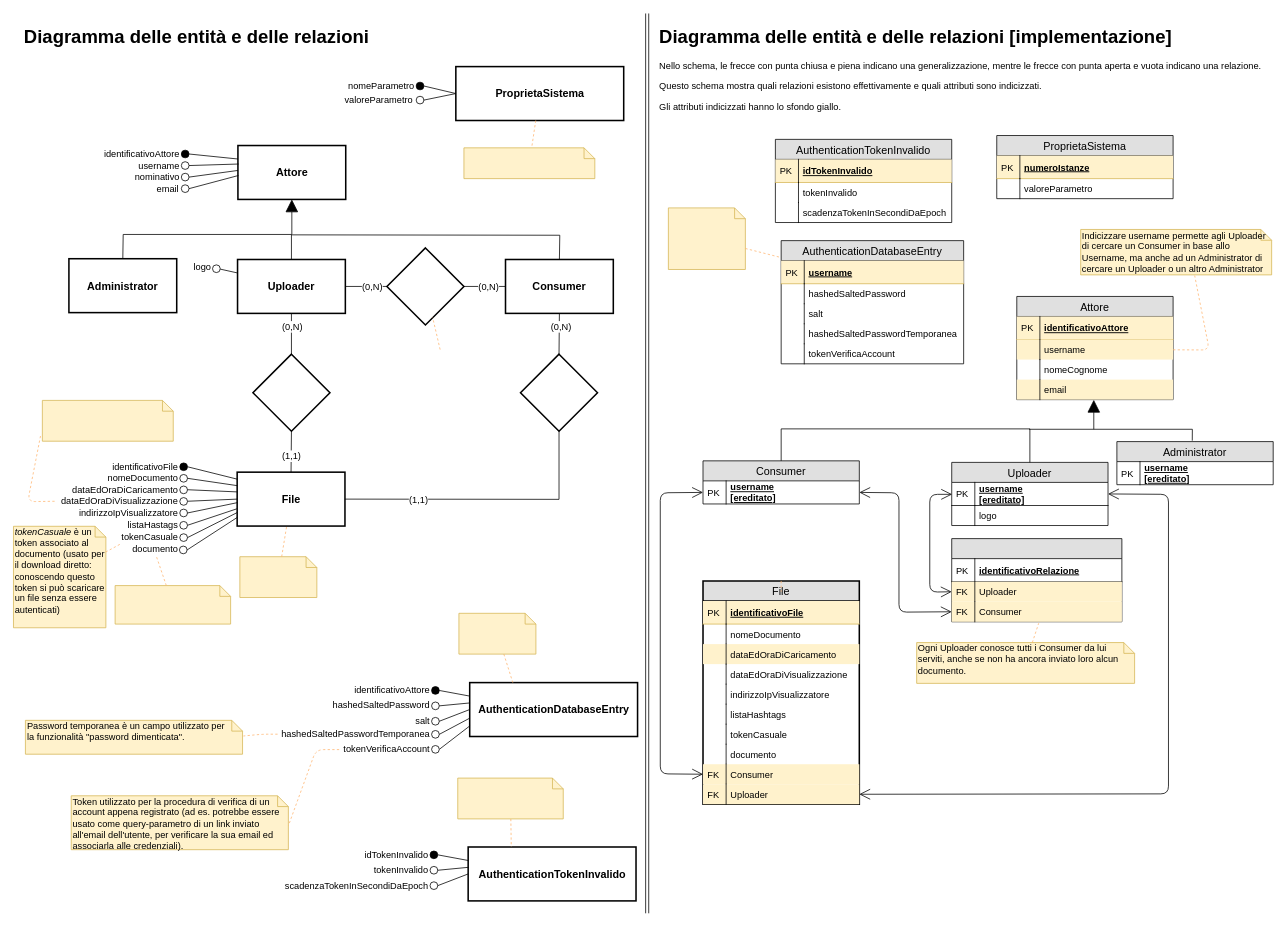
Some shapes in this 1287 by 927 pixel diagram are drawn without their labels. Each missing label, with the box of its shape:
Auhentication Database: (458, 613, 536, 654)
Auhentication Database scorrelato dal database del servizio: (668, 207, 745, 270)
caricamento: (252, 353, 330, 432)
Database contenente i token invalidi (che non devono essere accettati): (457, 777, 563, 819)
Documento e File sono sinonimi: (239, 556, 317, 598)
documento è fisicamente il file da distribuire (array di byte): (114, 585, 231, 624)
Memorizza le informazioni sul sistema.: (463, 147, 595, 179)
RelazioneUploaderConsumer: (951, 538, 1122, 622)
scaricamento: (519, 353, 598, 432)
servizio: (386, 247, 464, 325)
Un file si considera letto se viene impostata la dataEdOraDiVisualizzazione: (42, 400, 173, 441)
